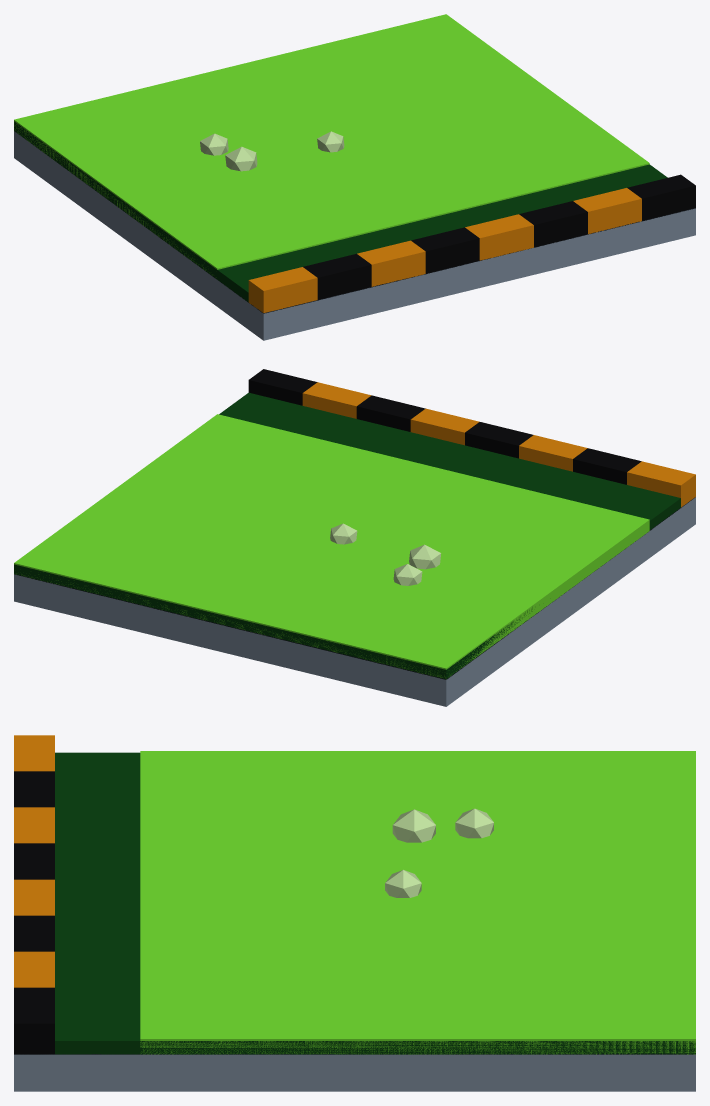
File: SM_Acid_Pool_Edge_2x2.glb
3 renders of one model, top to bottom at view 1: azimuth 30°, elevation 25°; view 2: azimuth 150°, elevation 25°; view 3: azimuth 270°, elevation 25°, orthographic. The views are drawn at different scales.
Visible parts, largest first — view 1: SM_Acid_Pool_Edge_2x2-col; view 2: SM_Acid_Pool_Edge_2x2-col; view 3: SM_Acid_Pool_Edge_2x2-col.
Boxes of the visible parts, box(x1,y1,x2,y2) form: SM_Acid_Pool_Edge_2x2-col: box(14, 14, 695, 340); SM_Acid_Pool_Edge_2x2-col: box(14, 369, 695, 706); SM_Acid_Pool_Edge_2x2-col: box(14, 735, 695, 1091).
Size of the model in its own units: 2 by 0.2497 by 2.
